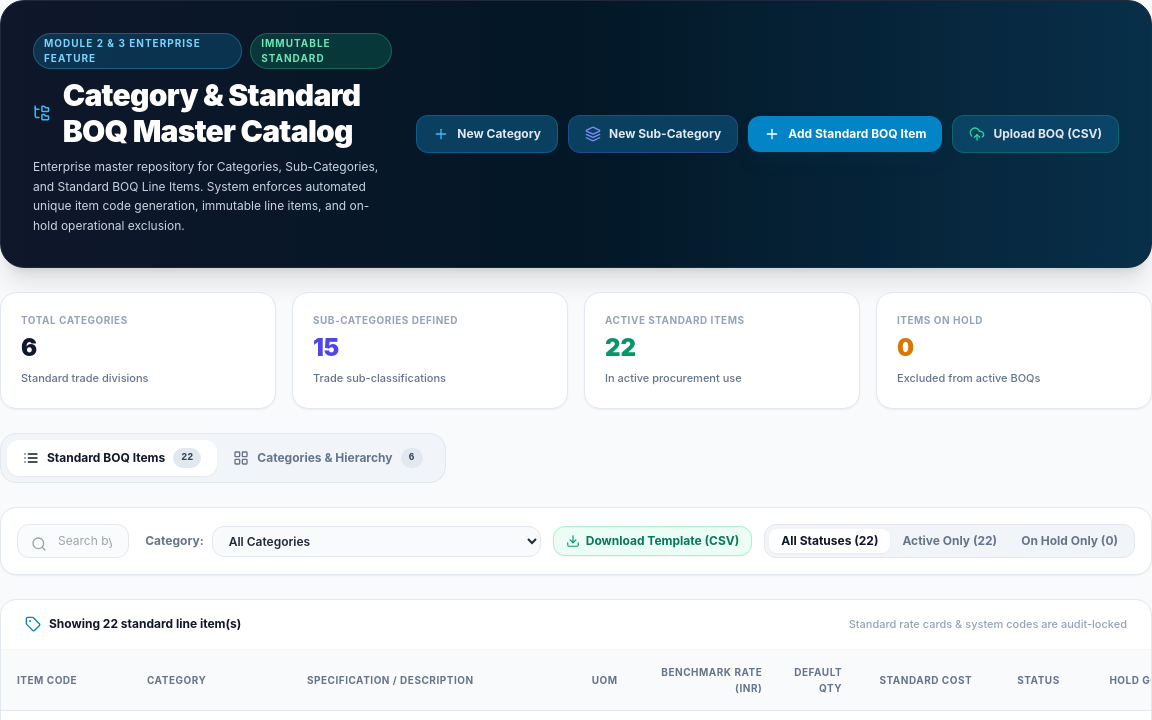
Test: CategoryStandardBOQMaster & Master Catalog Governance › Standard BOQ CSV Upload Integration › opens and closes StandardBOQUploadModal from the upload button
What coordinates should you click on to do the following:
click the button "Upload BOQ (CSV)"
I would click on:
 (1036, 134)
Its box is [952,115,1119,153].
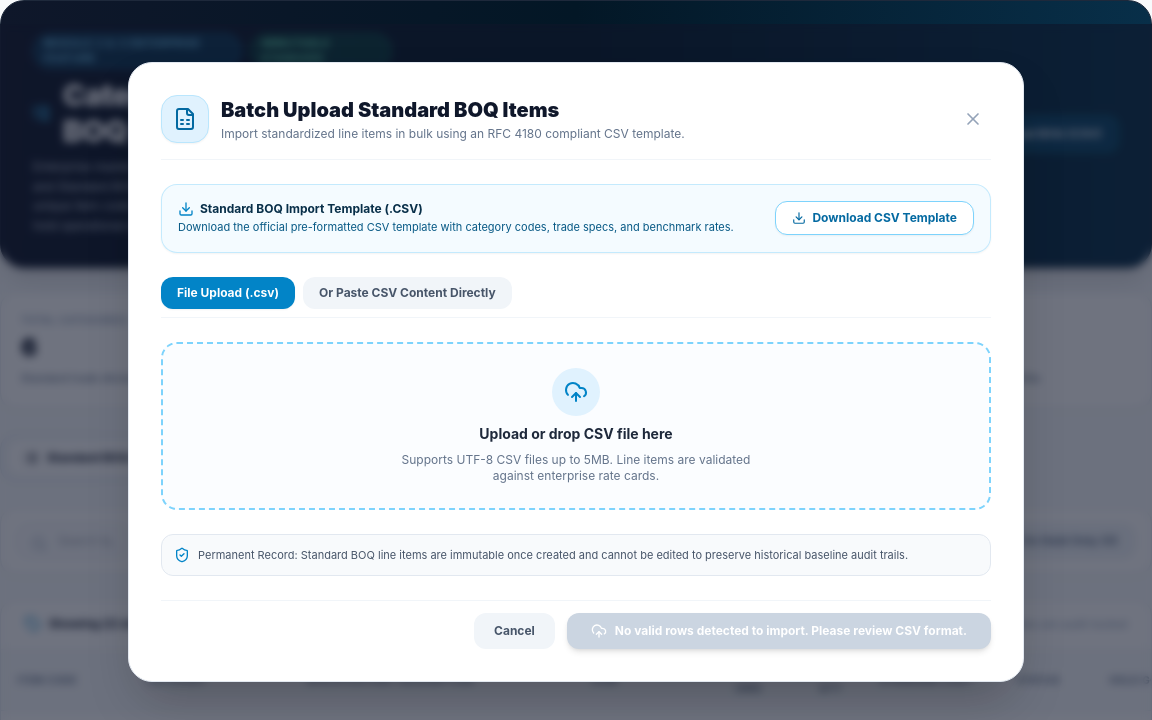
Expected: the heading "Batch Upload Standard BOQ Items" is shown, [221,98,559,122]
Note: Close modal
What coordinates should you click on to do the following:
click the button "Cancel"
I would click on:
 (514, 631)
Its box is [474,613,555,649].
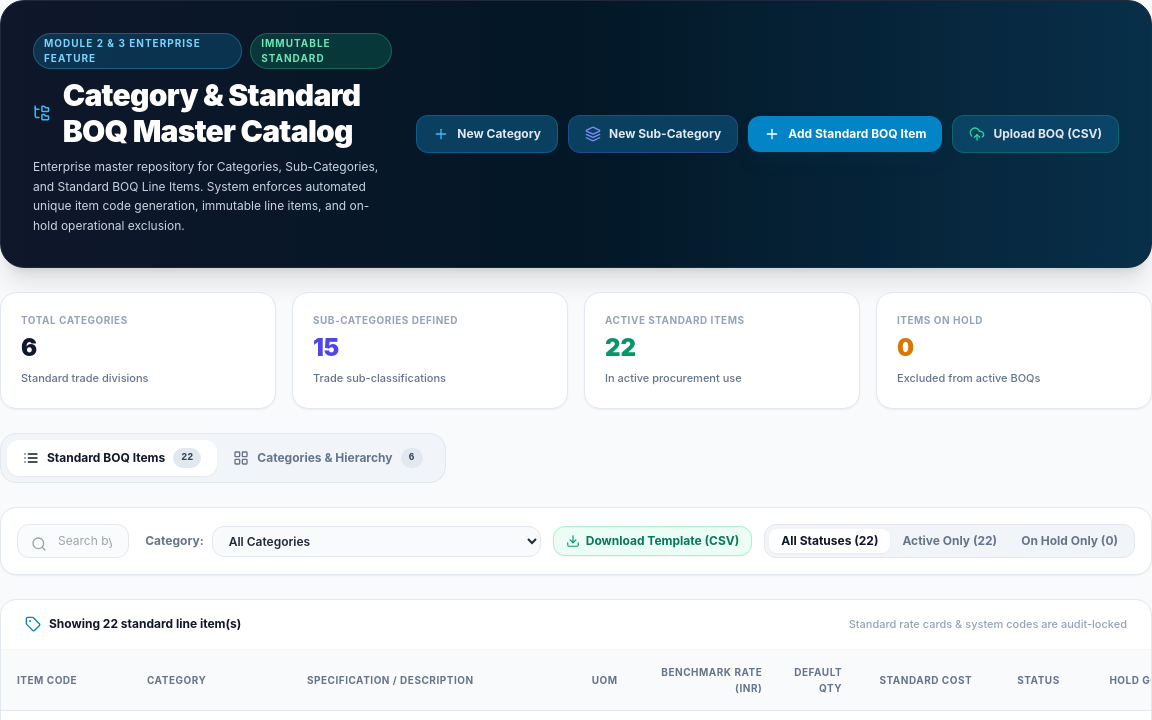
Expected: the heading "Batch Upload Standard BOQ Items" is gone
